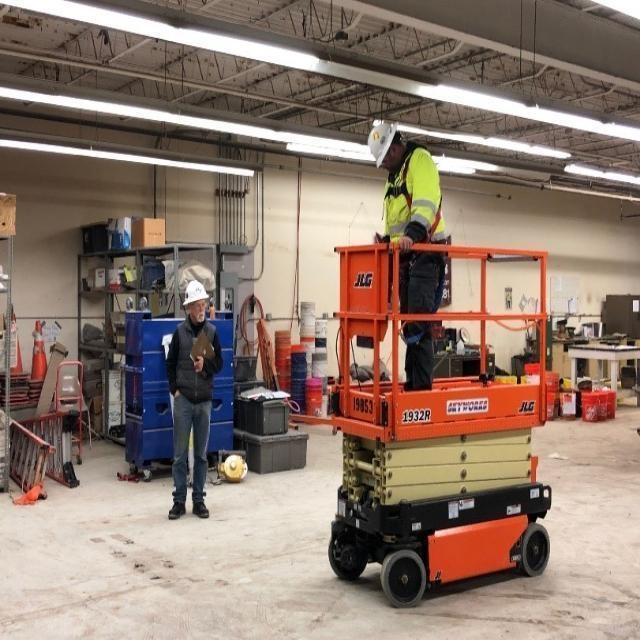Arnes_seguridad: (386, 147, 443, 343)
